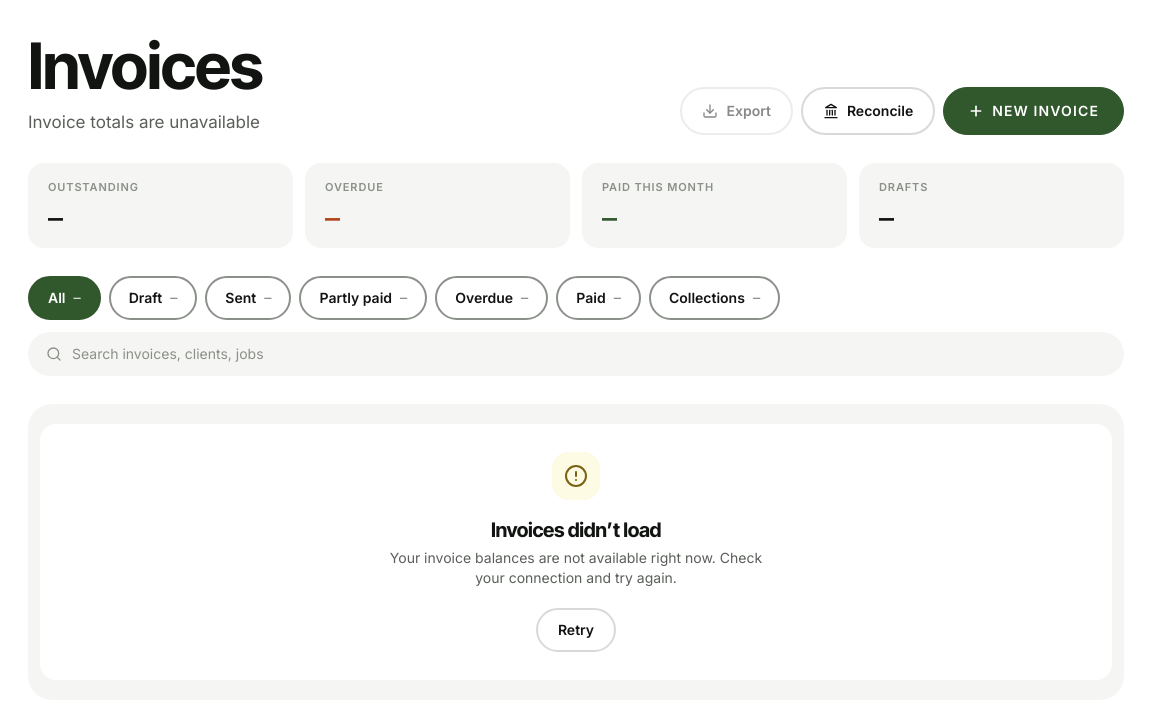
Scenario: Invoices list redesign › shows a real error rather than an empty list or zero financial totals, and retries
expect the heading "Invoices didn’t load" is shown: met, box [491,516,661,544]
expect the element with test id "stat-outstanding" does not show "$0.00": met
Click the button "Retry" at (576, 630), box [536,608,616,652]
(page scrolled)
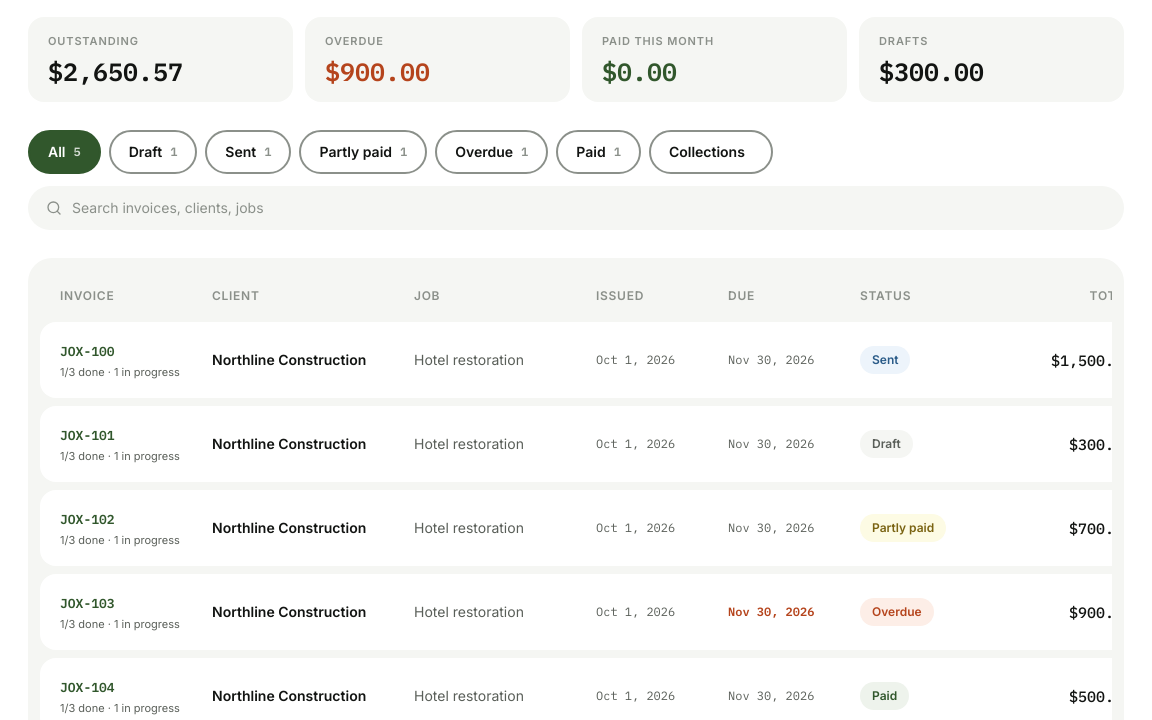
expect the link with test id "row-invoice-sent" is shown: met, box [40,322,1112,398]
